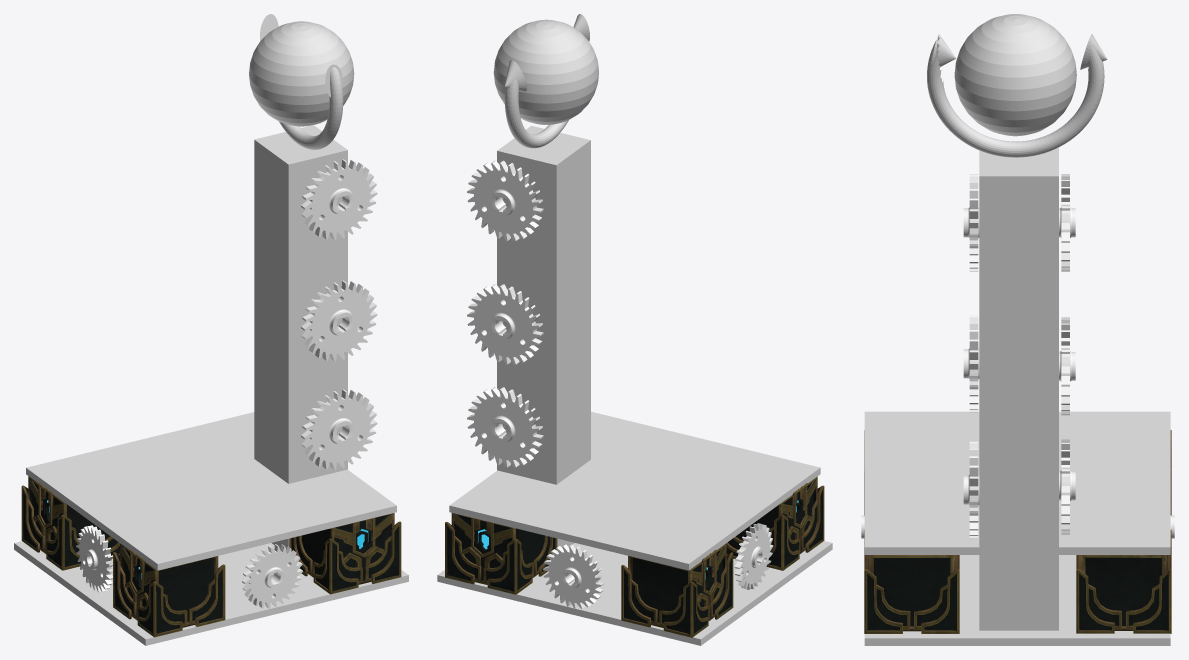
The model's file is torre de lanzamiento.glb.
3 renders of one model, left to right at view 1: azimuth 30°, elevation 25°; view 2: azimuth 150°, elevation 25°; view 3: azimuth 270°, elevation 25°, orthographic. The views are drawn at different scales.
Visible parts, largest first — view 1: Cube, Cube.002, Sphere, low_lambert2_0.004, Cube.001, low_lambert2_0.001, Object_2.002, Object_2.003, Object_2.004, low_lambert2_0.005, Object_2.009, Object_2.010 (+1 smaller); view 2: Cube, Cube.002, Sphere, low_lambert2_0.005, Cube.001, low_lambert2_0.002, Object_2.006, Object_2.007, Object_2.005, low_lambert2_0.004, Object_2.008, Object_2.010 (+1 smaller); view 3: Cube.002, Cube, Sphere, low_lambert2_0.002, low_lambert2_0.001, Cube.001, Torus.002, Object_2.002, Object_2.003, Object_2.004, Object_2.006, Object_2.005 (+1 smaller).
Boxes of the visible parts, left/top/right/bottom form: Cube: left=26, top=412, right=396, bottom=570; Cube.002: left=254, top=125, right=347, bottom=549; Sphere: left=249, top=21, right=354, bottom=126; low_lambert2_0.004: left=113, top=543, right=225, bottom=637; Cube.001: left=14, top=541, right=408, bottom=645; low_lambert2_0.001: left=289, top=513, right=401, bottom=594; Object_2.002: left=301, top=389, right=377, bottom=469; Object_2.003: left=301, top=280, right=377, bottom=361; Object_2.004: left=301, top=159, right=377, bottom=239; low_lambert2_0.005: left=21, top=476, right=119, bottom=570; Object_2.009: left=242, top=544, right=302, bottom=608; Object_2.010: left=76, top=525, right=112, bottom=592; Cube: left=449, top=411, right=820, bottom=570; Cube.002: left=497, top=125, right=590, bottom=547; Sphere: left=493, top=19, right=598, bottom=124; low_lambert2_0.005: left=621, top=543, right=733, bottom=637; Cube.001: left=437, top=541, right=832, bottom=645; low_lambert2_0.002: left=445, top=513, right=557, bottom=594; Object_2.006: left=467, top=284, right=543, bottom=364; Object_2.007: left=467, top=387, right=543, bottom=467; Object_2.005: left=467, top=160, right=543, bottom=241; low_lambert2_0.004: left=726, top=476, right=824, bottom=570; Object_2.008: left=543, top=544, right=604, bottom=608; Object_2.010: left=734, top=523, right=773, bottom=589; Cube.002: left=979, top=147, right=1058, bottom=630; Cube: left=864, top=411, right=1170, bottom=554; Sphere: left=954, top=14, right=1076, bottom=136; low_lambert2_0.002: left=1076, top=529, right=1171, bottom=633; low_lambert2_0.001: left=864, top=530, right=959, bottom=633; Cube.001: left=864, top=555, right=1170, bottom=645; Torus.002: left=927, top=36, right=1104, bottom=157; Object_2.002: left=963, top=441, right=979, bottom=538; Object_2.003: left=963, top=315, right=979, bottom=412; Object_2.004: left=963, top=174, right=979, bottom=271; Object_2.006: left=1059, top=317, right=1075, bottom=415; Object_2.005: left=1059, top=174, right=1075, bottom=271.
Bounding box in the file's own units: 8.75 × 15.64 × 7.38.
Materials: 8 (2 with a texture image).
